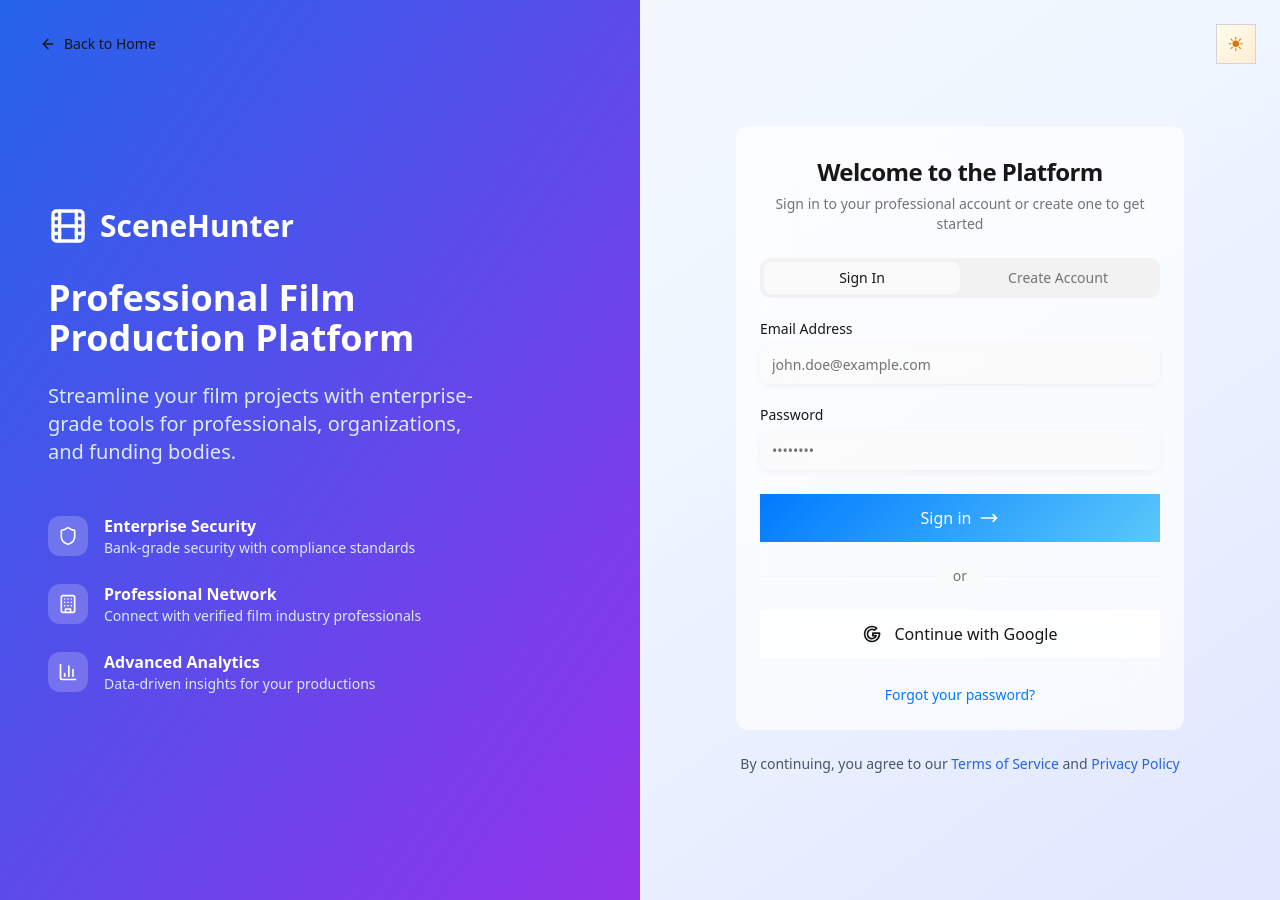
Test: Auth Page Integration › updates title when switching between forms
The width and height of the screenshot is (1280, 900).
Click the tab "Create Account" at (1058, 278), box [960,262,1156,294]
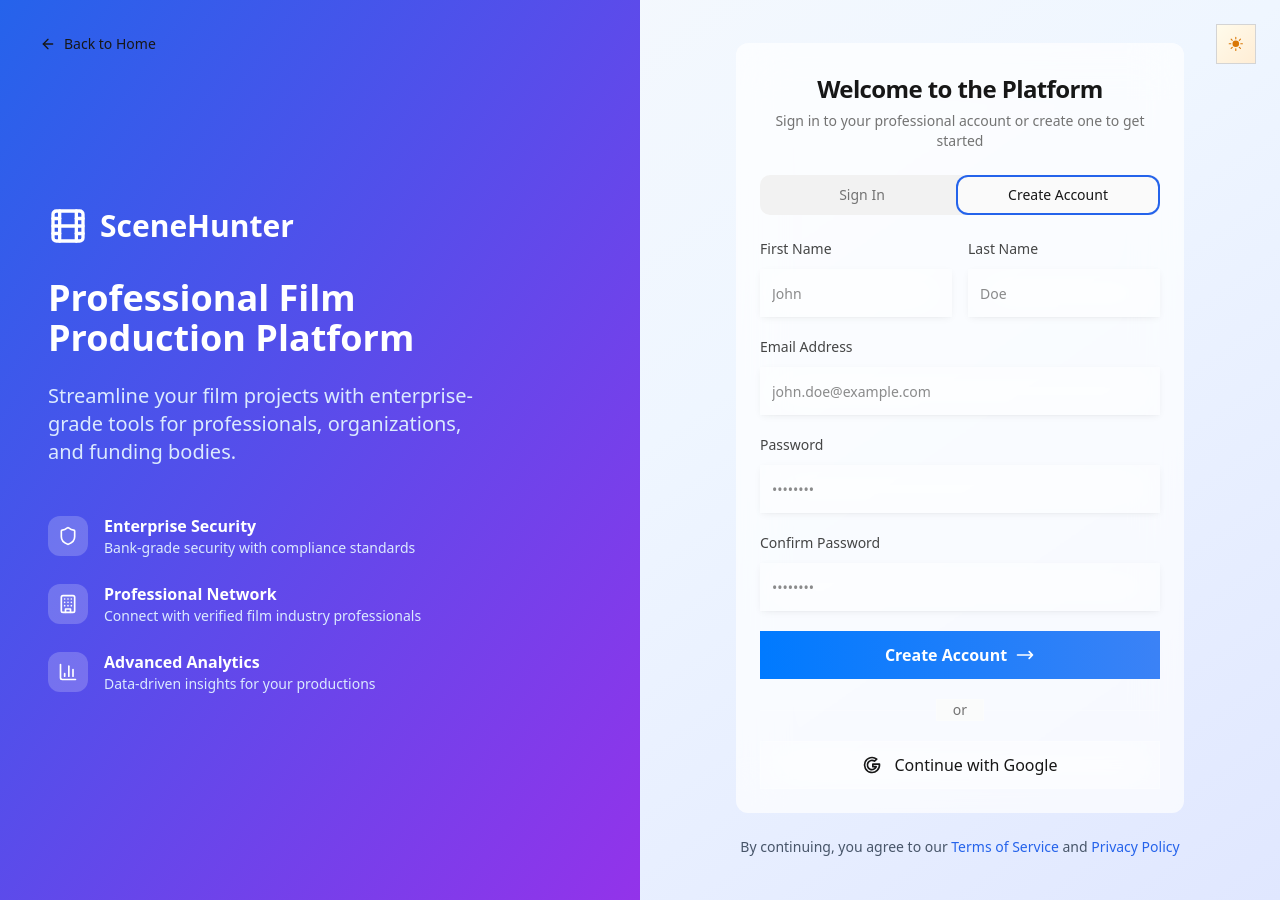
Check: the field labelled "First Name" is shown, box [760,269,952,317]
